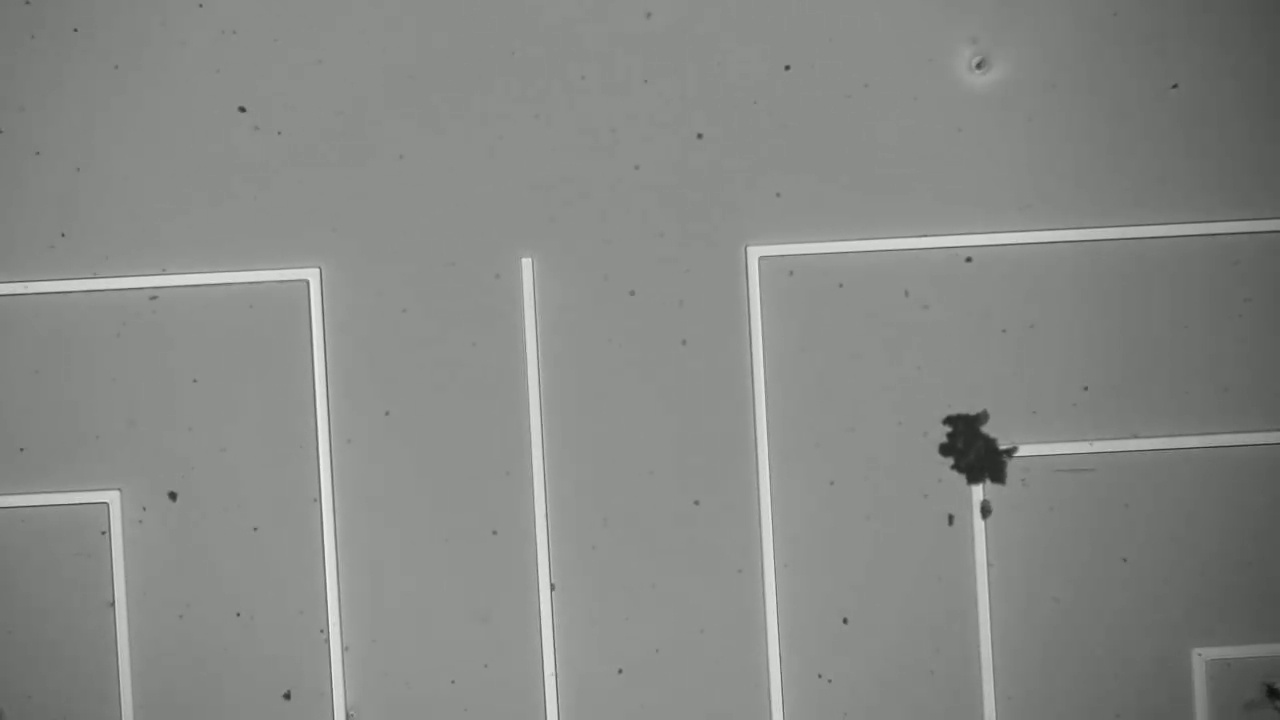stains_enbedded: (920, 401, 1029, 512)
